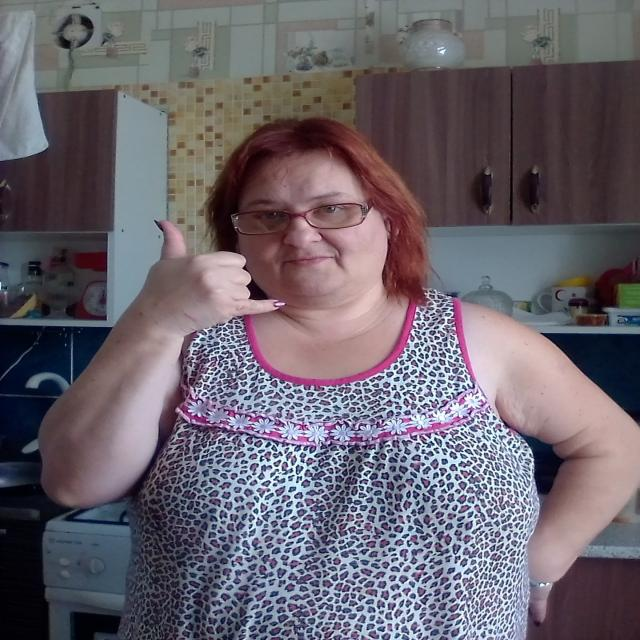call: (131, 218, 289, 333)
